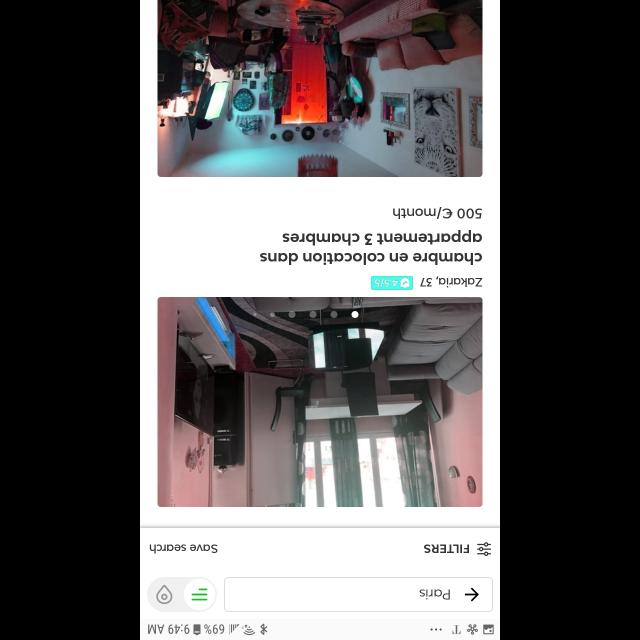icon: (184, 578, 216, 610), (156, 584, 172, 604), (477, 542, 491, 556), (465, 587, 479, 601)
image: (158, 297, 482, 507), (158, 0, 483, 177), (371, 276, 413, 290)
input: (223, 576, 492, 612)
text: (260, 230, 482, 264), (392, 207, 482, 219), (420, 276, 482, 288), (150, 544, 218, 554), (423, 544, 469, 552), (419, 589, 449, 599)
uppertaskbar: (140, 618, 500, 640)
